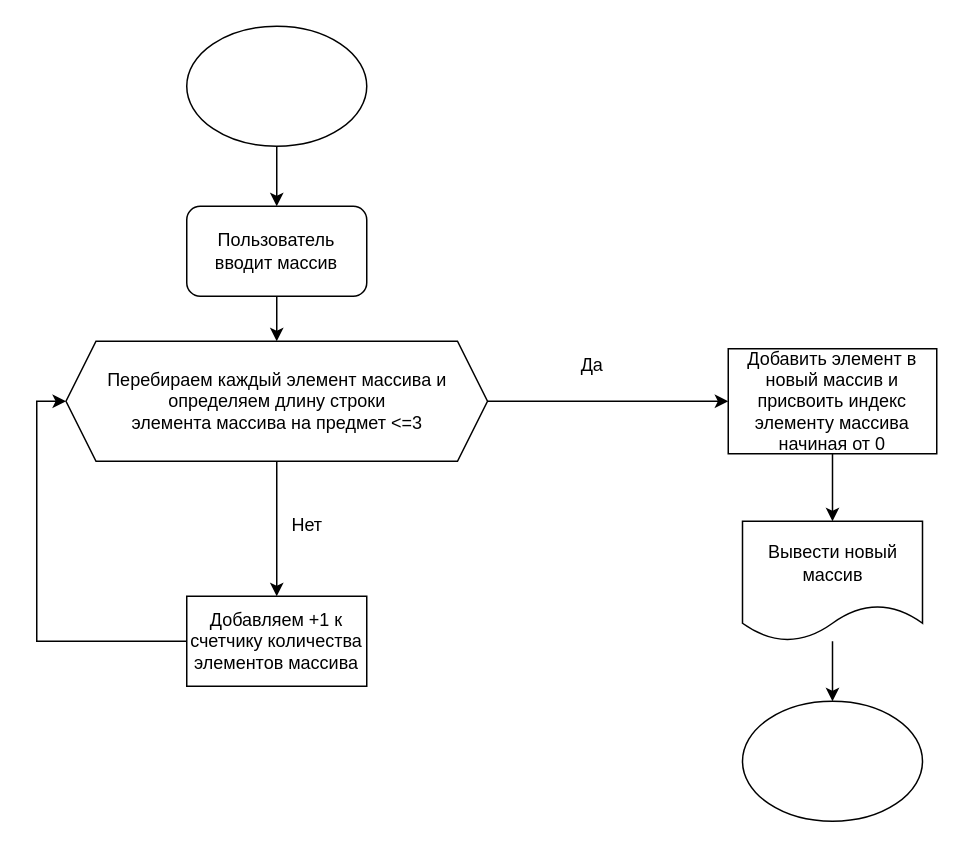
Some shapes in this 963 by 848 pixel diagram are drawn without their labels. The shapes that lost their labels are listed below. From the top down, each one's centre as x and y in pixels, then its label:
At point 276,85: "Начало".
At point 831,760: "Конец".
